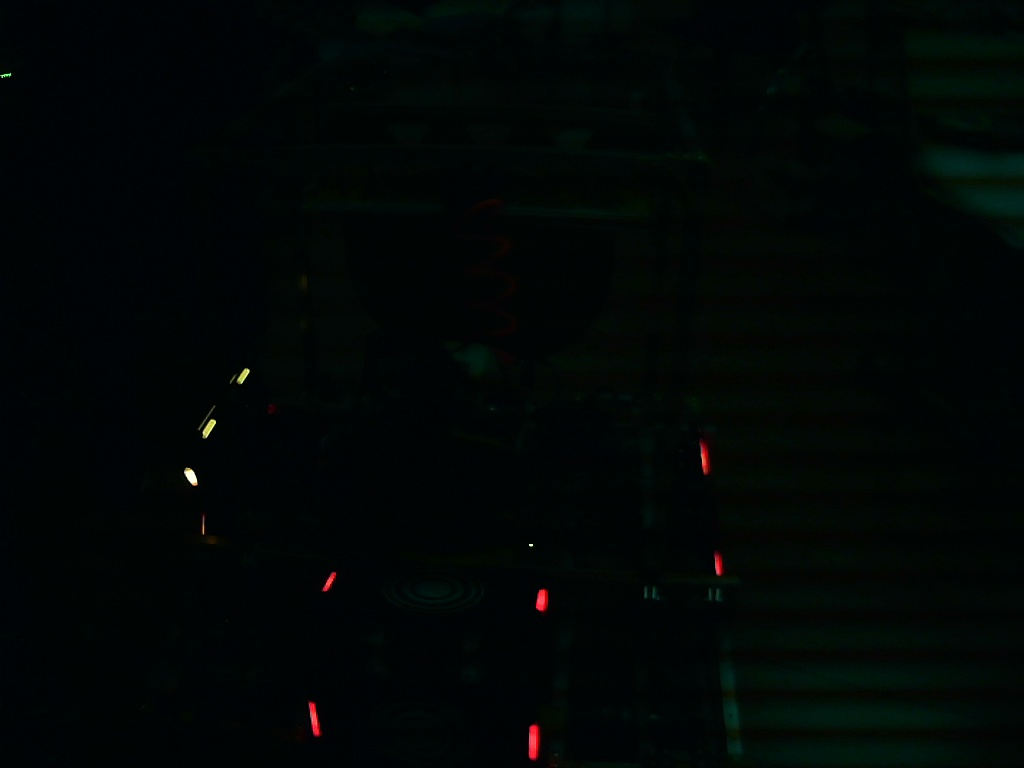lamp: (304, 696, 322, 739), (527, 720, 541, 761)
